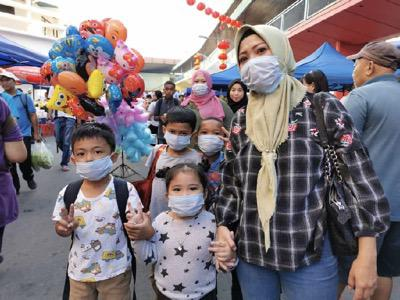mask_weared_incorrect: (73, 144, 113, 179)
with_mask: (239, 41, 282, 91), (167, 181, 206, 216), (197, 125, 226, 156), (163, 124, 191, 151), (192, 76, 209, 96)
without_mask: (351, 57, 368, 89), (228, 83, 245, 103), (0, 77, 15, 93), (162, 86, 174, 98)
